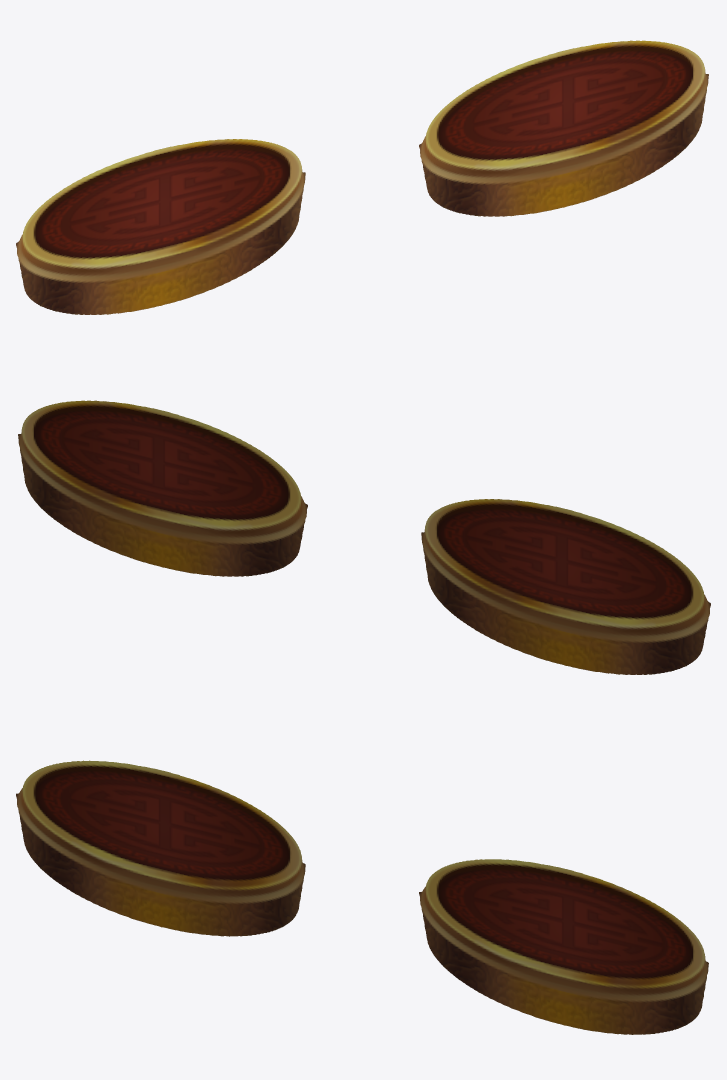
The model's file is GUI_stage_jinhua.FBX.
3 renders of one model, top to bottom at view 1: azimuth 30°, elevation 25°; view 2: azimuth 150°, elevation 25°; view 3: azimuth 330°, elevation 25°, orthographic.
Visible parts, largest first — view 1: GUI_stage_after, GUI_stage_base; view 2: GUI_stage_after, GUI_stage_base; view 3: GUI_stage_after, GUI_stage_base.
Part boxes in pixels (x1,y1,x2,y2): GUI_stage_after: [419, 40, 708, 216]; GUI_stage_base: [16, 139, 305, 314]; GUI_stage_after: [18, 400, 307, 576]; GUI_stage_base: [421, 499, 710, 674]; GUI_stage_after: [419, 859, 708, 1034]; GUI_stage_base: [16, 760, 305, 936].
Size of the model in its own units: 485 by 107 by 4.67e-06.
